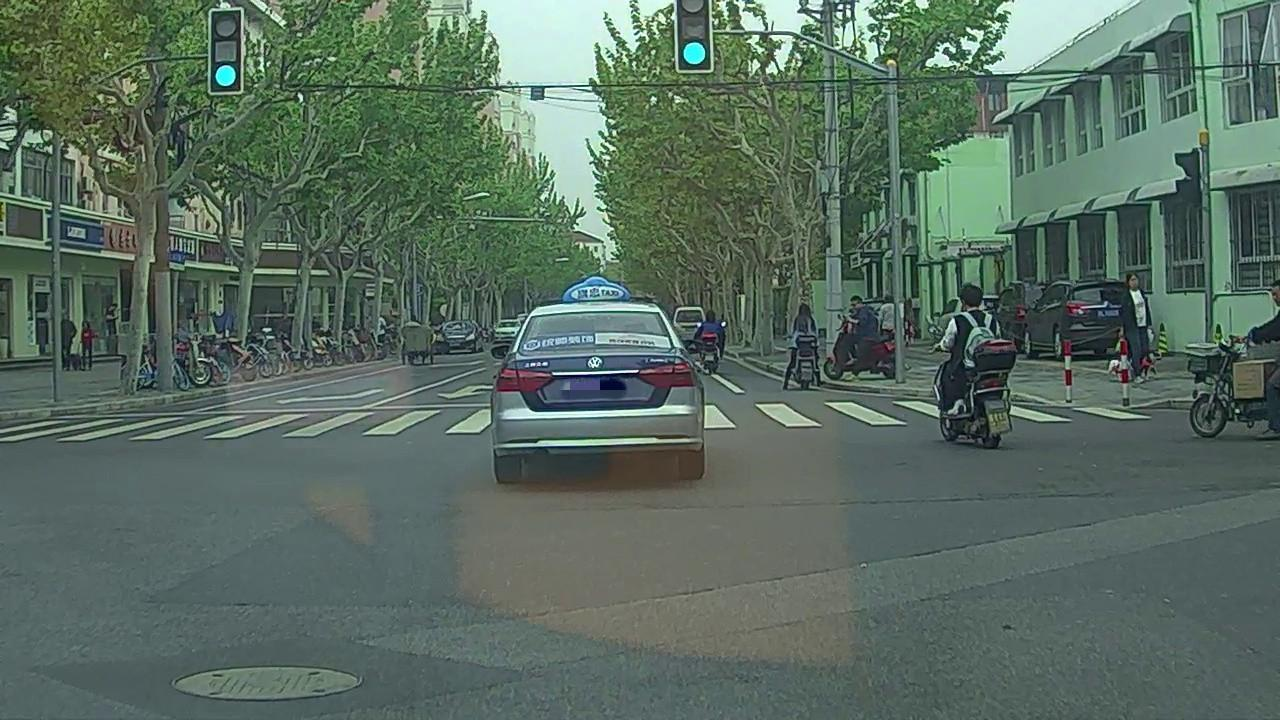traffic_light: (210, 11, 240, 93), (677, 1, 712, 71)
